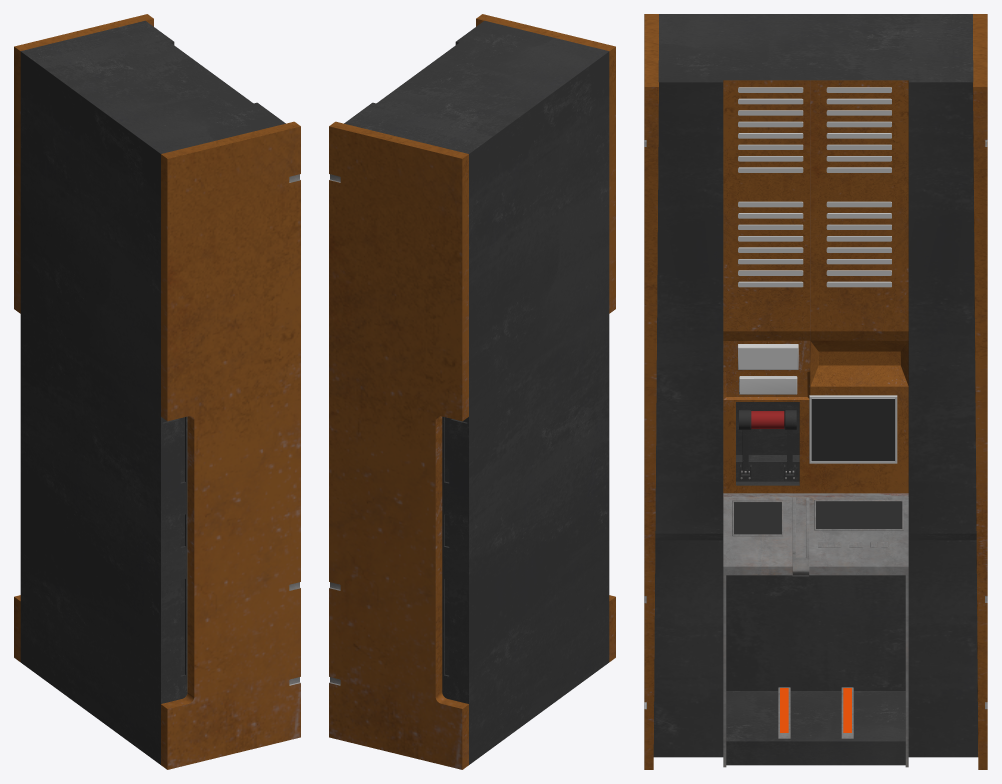
The model's file is Electroshield.fbx.
3 renders of one model, left to right at view 1: azimuth 30°, elevation 25°; view 2: azimuth 150°, elevation 25°; view 3: azimuth 270°, elevation 25°, orthographic. The views are drawn at different scales.
Parts seen in each view (by area): view 1: Elecrtroshield; view 2: Elecrtroshield; view 3: Elecrtroshield, Switch.
Part boxes in pixels (bbox=[...]): Elecrtroshield: bbox=[14, 14, 300, 769]; Elecrtroshield: bbox=[329, 14, 615, 769]; Elecrtroshield: bbox=[644, 14, 987, 769]; Switch: bbox=[739, 410, 796, 473].
Size of the model in its own units: 82.02 by 303 by 138.
